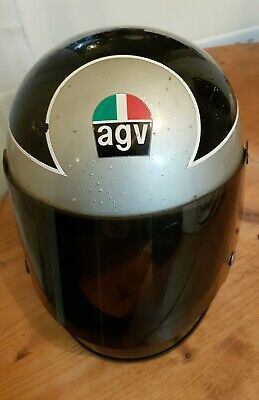with_helmet: (3, 24, 247, 359)
